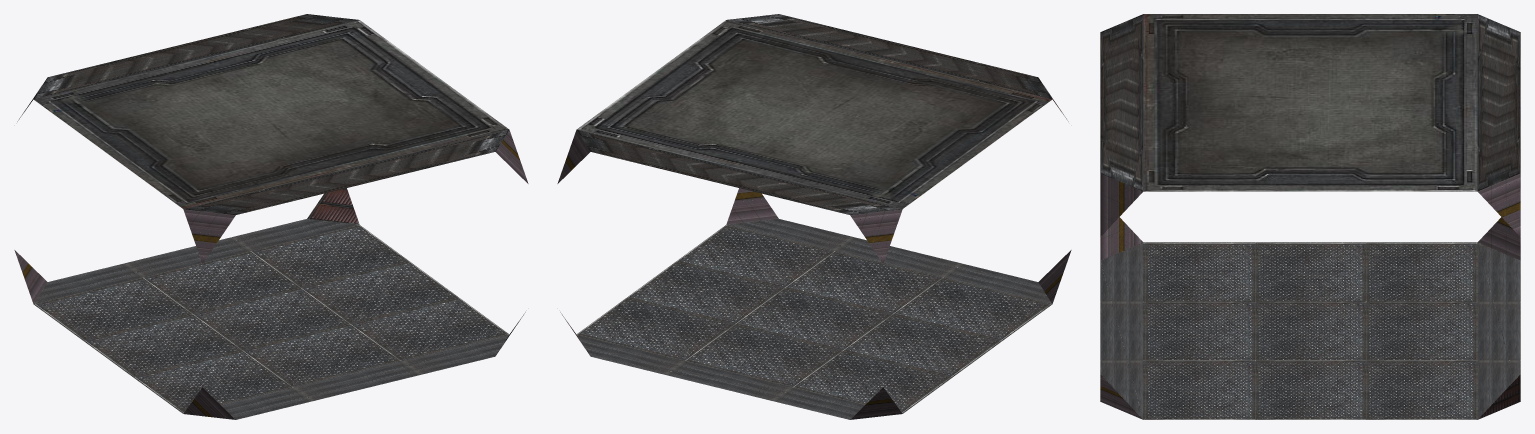
Rendered from Hallway4Way.fbx.
3 views of the same model, side by side, from view 1: azimuth 30°, elevation 25°; view 2: azimuth 150°, elevation 25°; view 3: azimuth 270°, elevation 25° (orthographic). The views are drawn at different scales.
Visible parts, largest first — view 1: pCube37; view 2: pCube37; view 3: pCube37.
Boxes of the visible parts, x1,y1,x2,y2 form: pCube37: (14,14,528,419); pCube37: (557,14,1071,419); pCube37: (1100,14,1520,419).
Size of the model in its own units: 10 by 6 by 10.
